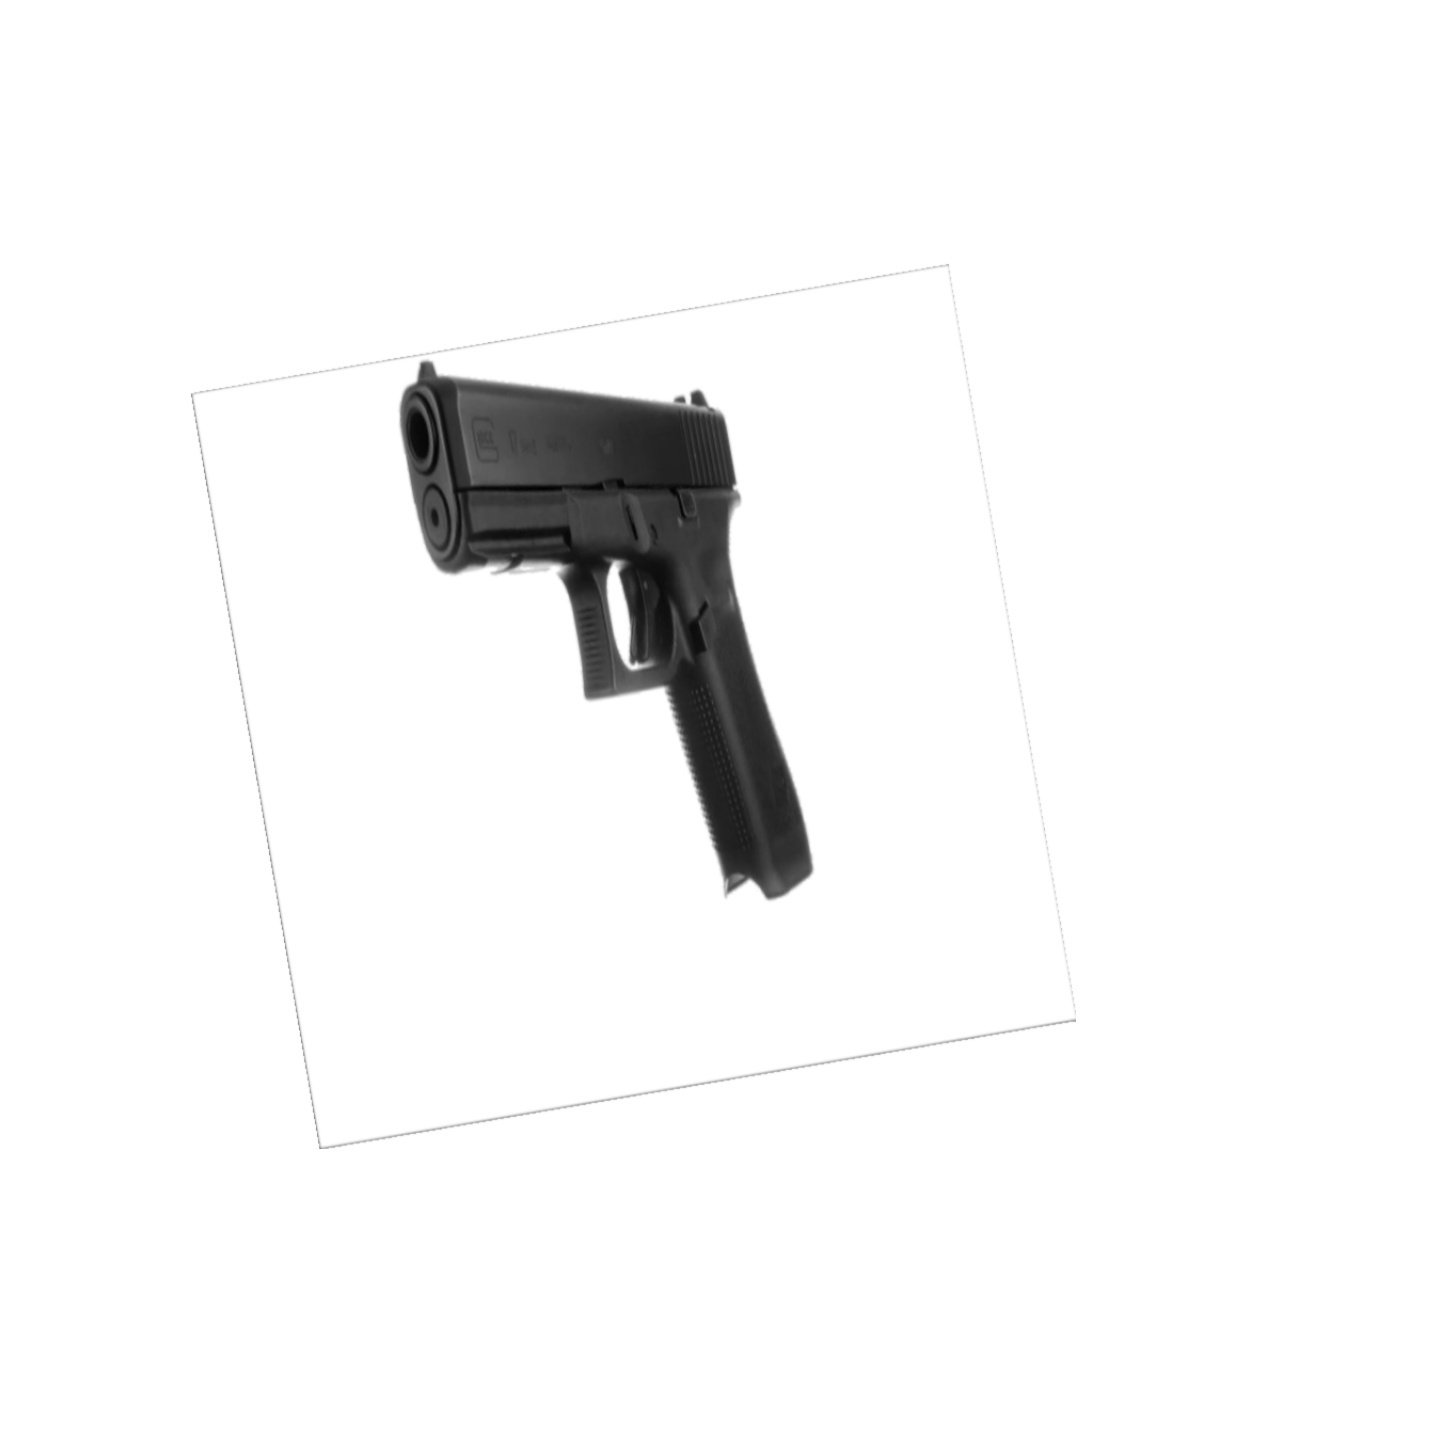gun: (394, 358, 820, 903)
